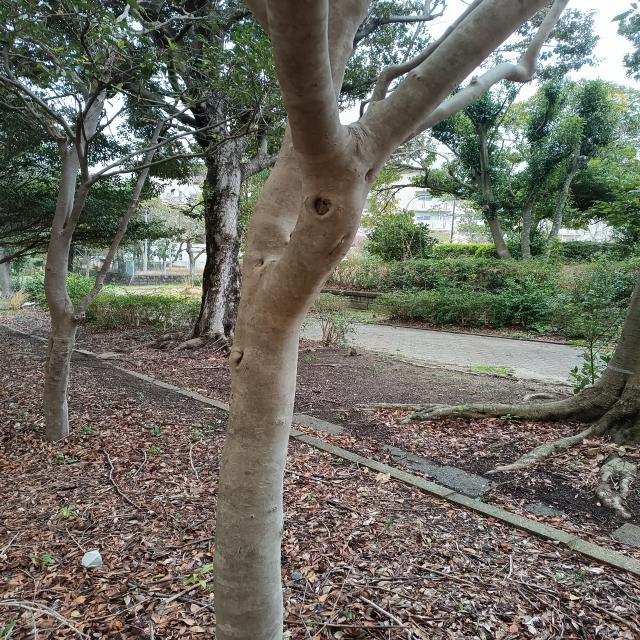Branch: (358, 0, 555, 162), (262, 130, 381, 312), (269, 3, 344, 146), (328, 0, 374, 99)
Twig: (400, 0, 569, 143), (368, 0, 483, 108), (354, 15, 430, 47)
